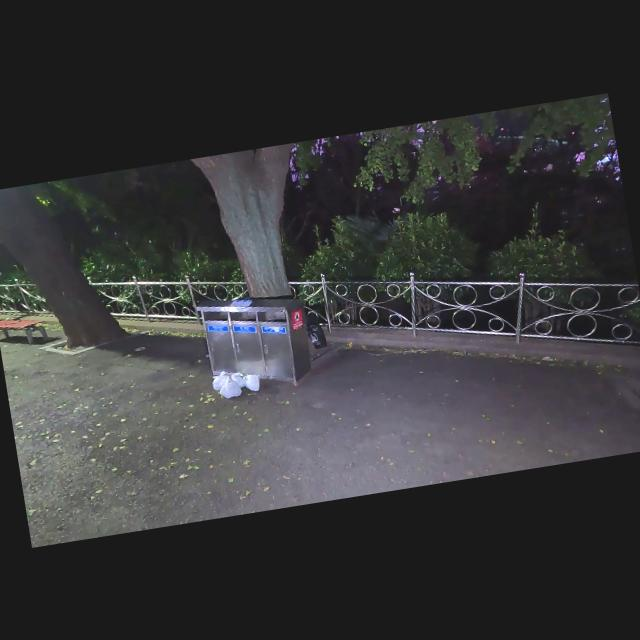trash: (217, 374, 244, 400), (306, 321, 328, 350), (211, 369, 233, 391), (242, 370, 262, 392), (226, 370, 247, 390)
